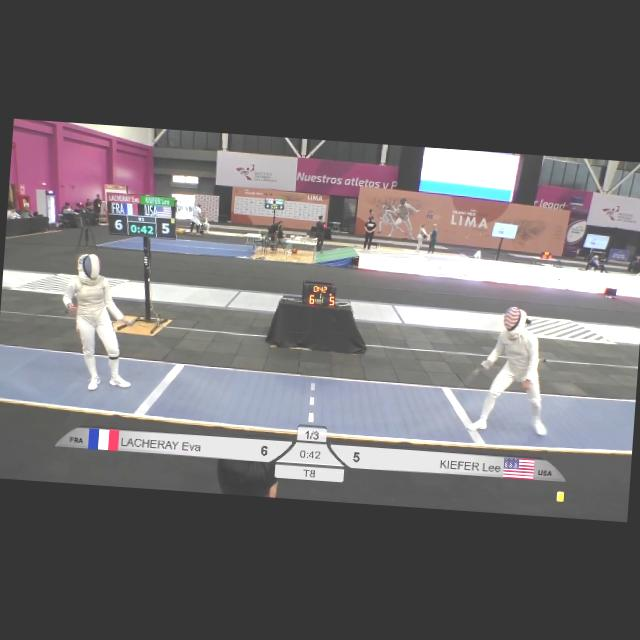blade: (453, 357, 488, 398)
